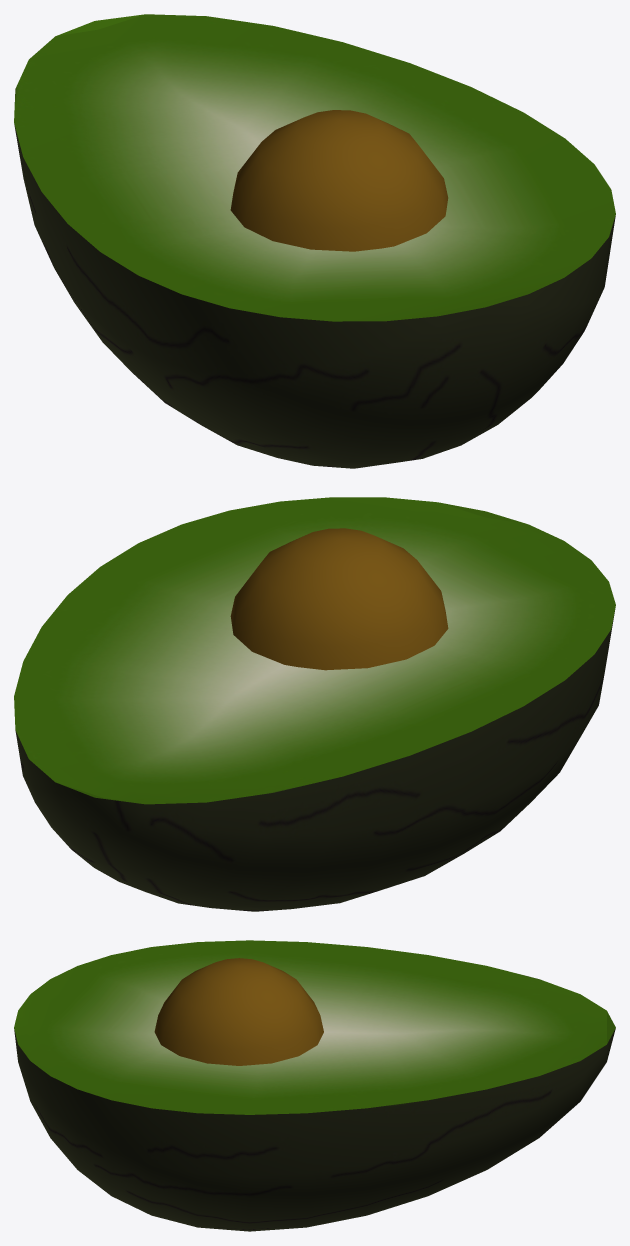
Rendered from Avacado_Nice_1.FBX.
The picture shows the model from 3 angles, top to bottom: view 1: azimuth 30°, elevation 25°; view 2: azimuth 150°, elevation 25°; view 3: azimuth 270°, elevation 25°; orthographic projection. The views are drawn at different scales.
Parts seen in each view (by area): view 1: Avacado; view 2: Avacado; view 3: Avacado.
Boxes of the visible parts, bbox=[...] form: Avacado: bbox=[14, 14, 615, 468]; Avacado: bbox=[14, 497, 615, 911]; Avacado: bbox=[14, 940, 615, 1231].
Size of the model in its own units: 2.91 by 1.91 by 4.24.
